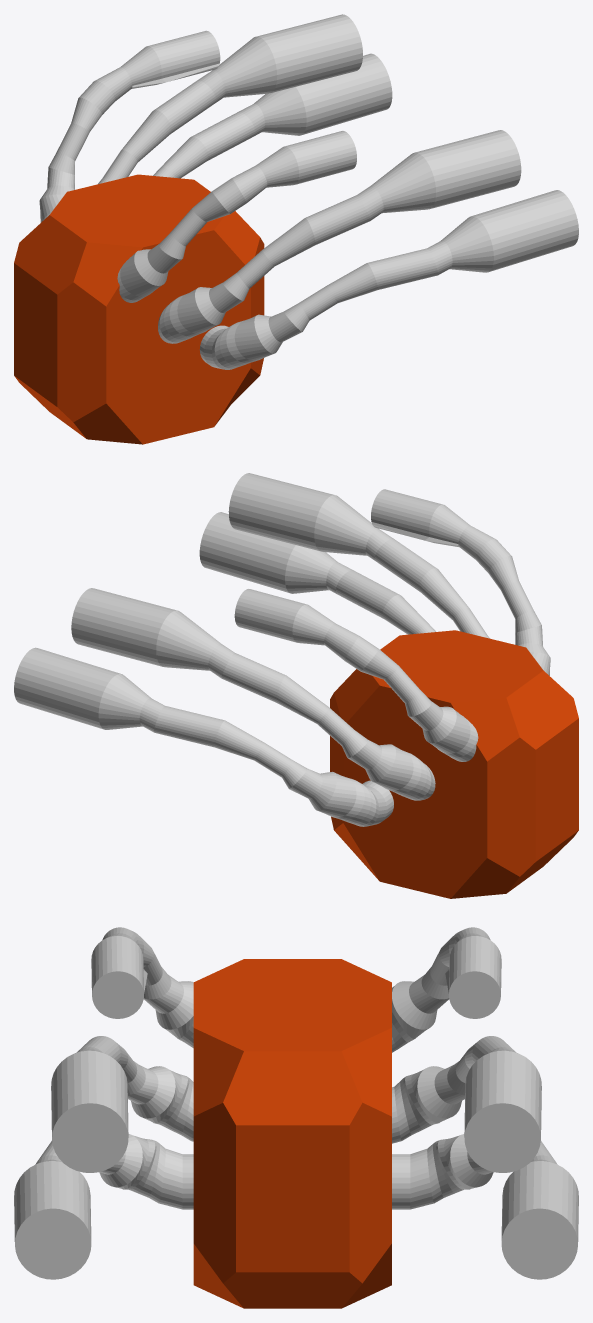
Rendered from engine-tier3.fbx.
The picture shows the model from 3 angles, top to bottom: view 1: azimuth 30°, elevation 25°; view 2: azimuth 150°, elevation 25°; view 3: azimuth 270°, elevation 25°; orthographic projection. The views are drawn at different scales.
Parts seen in each view (by area): view 1: Cylinder.002; view 2: Cylinder.002; view 3: Cylinder.002.
Boxes of the visible parts, bbox=[...] form: Cylinder.002: bbox=[14, 14, 578, 444]; Cylinder.002: bbox=[14, 473, 578, 898]; Cylinder.002: bbox=[14, 927, 578, 1308].
Size of the model in its own units: 2386 by 1514 by 2040.
